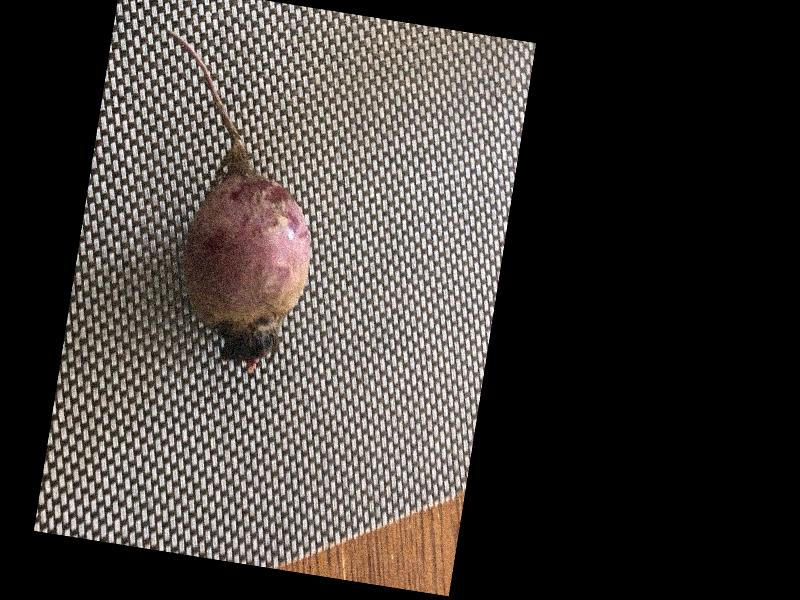Beet: (116, 27, 341, 379)
